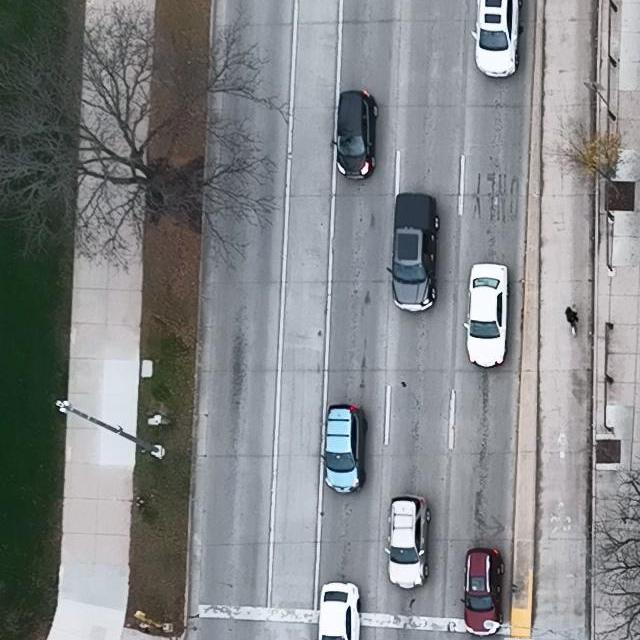car: (386, 193, 439, 311), (463, 263, 508, 367), (383, 493, 430, 590), (319, 403, 367, 494), (331, 89, 378, 181), (470, 0, 524, 78), (459, 547, 504, 637), (319, 581, 361, 640)
